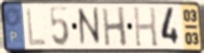4: (159, 5, 183, 49)
5: (48, 5, 71, 49)
H: (100, 5, 129, 48), (132, 5, 159, 49)
L: (25, 7, 48, 48)
N: (75, 5, 103, 48)
